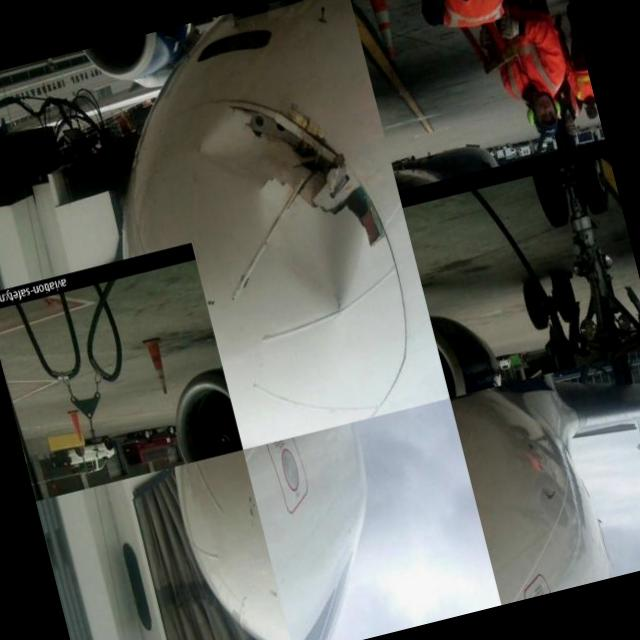dent: (248, 166, 382, 324), (188, 99, 280, 198)
